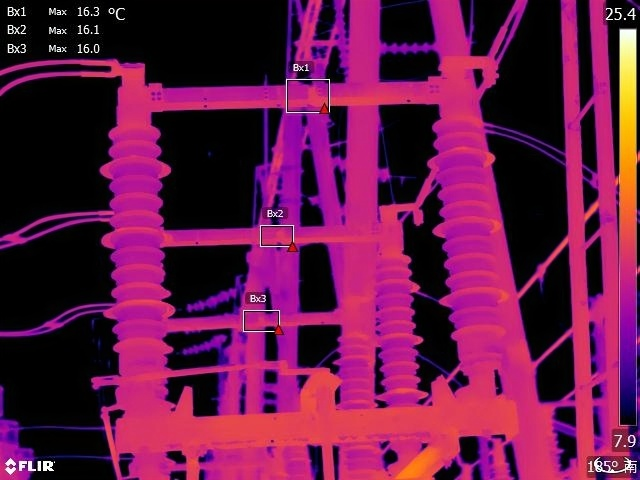insulator: (343, 36, 442, 57), (332, 1, 351, 68)
post insulator: (427, 108, 522, 352), (97, 111, 188, 365), (376, 255, 431, 405), (337, 331, 388, 467)
switch: (96, 38, 484, 133), (162, 197, 410, 268), (167, 288, 372, 342)
